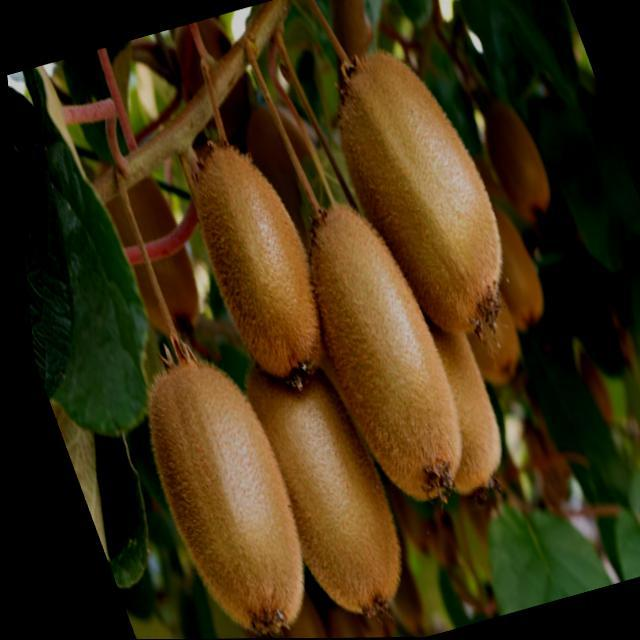kiwi: (306, 34, 533, 358), (103, 329, 330, 640), (206, 314, 424, 636), (272, 192, 482, 520), (164, 130, 350, 406), (69, 130, 221, 356), (462, 83, 571, 241)
